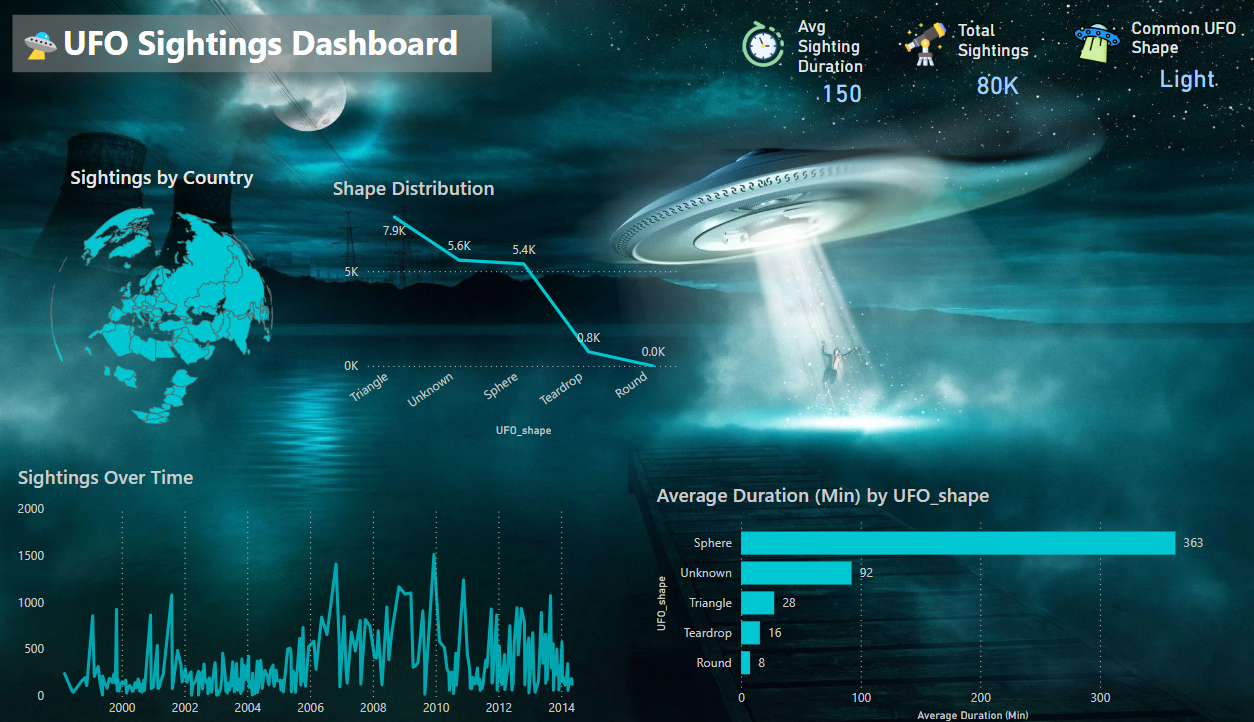

What the dashboard file says about the page in this screenshot:
{"tool":"powerbi","page":{"name":"Page 1","canvas":[1226,720],"ordinal":0},"visuals":[{"type":"card","title":"Total Sightings","fields":{"Values":["ufo-sightings-transformed.Total Sightings"]},"box":[928.8,23.2,89,87.8],"z":0},{"type":"card","title":"Avg Sighting Duration","fields":{"Values":["ufo-sightings-transformed.Average Duration (Min)"]},"box":[772.8,19.5,96.3,91.4],"z":1000},{"type":"card","title":"Common UFO Shape","fields":{"Values":["Shape Frequency.Most Common Shape"]},"box":[1098.3,20.7,119.5,79.2],"z":2000},{"type":"image","box":[1042.2,17.1,56.1,56.1],"z":3000},{"type":"image","box":[876.4,20.7,52.4,52.4],"z":4000},{"type":"image","box":[715.5,19.5,57.3,54.9],"z":5000},{"type":"lineChart","title":"Sightings Over Time","fields":{"Y":["ufo-sightings-transformed.Sightings Selected Year"],"Category":["ufo-sightings-transformed.date_documented"]},"box":[12.2,455.9,564.4,256],"z":6000},{"type":"shapeMap","title":"Sightings by Country","fields":{"Category":["ufo-sightings-transformed.Country"],"Value":["ufo-sightings-transformed.Total Sightings"]},"box":[11.7,163.9,291.2,270.7],"z":7000},{"type":"lineChart","title":"Shape Distribution","fields":{"Category":["Shape Frequency.UFO_shape"],"Y":["Sum(Shape Frequency.ShapeCount)"]},"box":[319,174.1,348.3,260.5],"z":8000},{"type":"barChart","fields":{"Y":["ufo-sightings-transformed.Average Duration (Min)"],"Category":["ufo-sightings-transformed.UFO_shape"]},"box":[663.1,471.7,554.6,240.1],"z":9000},{"type":"textbox","box":[12.3,11,456.6,72.4],"z":10000},{"type":"slicer","title":"Year","fields":{"Values":["ufo-sightings-transformed.New_year"]},"box":[989.3,233.2,228.3,71.2],"z":11000},{"type":"slicer","title":"Season","fields":{"Values":["ufo-sightings-transformed.Season"]},"box":[989.3,326.5,228.3,67.5],"z":12000}]}

Visuals, with their boxes in screenshot pixels (x1, y1, x2, y2), scaled from the page's 1226x720 canvas onto the 1254x722 screenshot:
"Total Sightings" card: <box>950,23,1041,111</box>
"Avg Sighting Duration" card: <box>790,20,889,111</box>
"Common UFO Shape" card: <box>1123,21,1246,100</box>
image: <box>1066,17,1123,73</box>
image: <box>896,21,950,73</box>
image: <box>732,20,790,75</box>
"Sightings Over Time" lineChart: <box>12,457,590,714</box>
"Sightings by Country" shapeMap: <box>12,164,310,436</box>
"Shape Distribution" lineChart: <box>326,175,683,436</box>
barChart - ufo-sightings-transformed.Average Duration (Min) x ufo-sightings-transformed.UFO_shape: <box>678,473,1246,714</box>
textbox: <box>13,11,480,84</box>
"Year" slicer: <box>1012,234,1245,305</box>
"Season" slicer: <box>1012,327,1245,395</box>
